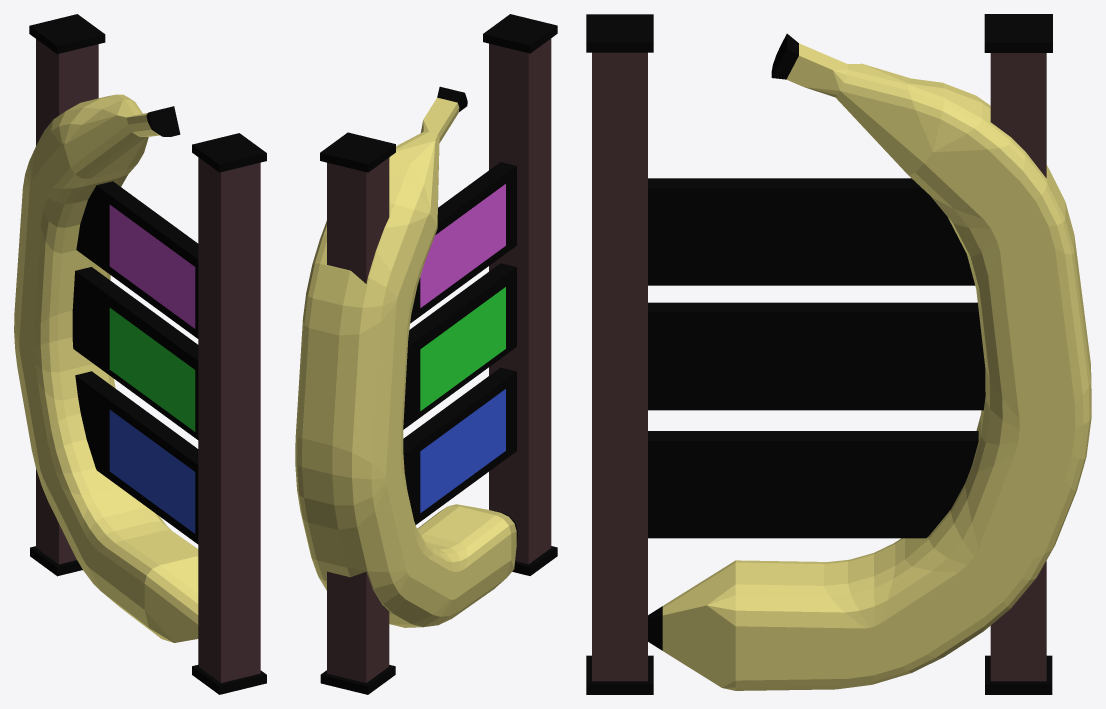
The model's file is Banana Sign.fbx.
3 renders of one model, left to right at view 1: azimuth 30°, elevation 25°; view 2: azimuth 150°, elevation 25°; view 3: azimuth 270°, elevation 25°, orthographic. The views are drawn at different scales.
Parts seen in each view (by area): view 1: Plane.002; view 2: Plane.002; view 3: Plane.002.
Part boxes in pixels (bbox=[...]): Plane.002: bbox=[14, 14, 266, 694]; Plane.002: bbox=[295, 14, 557, 694]; Plane.002: bbox=[586, 14, 1091, 694].
Size of the model in its own units: 200 by 1336 by 938.
